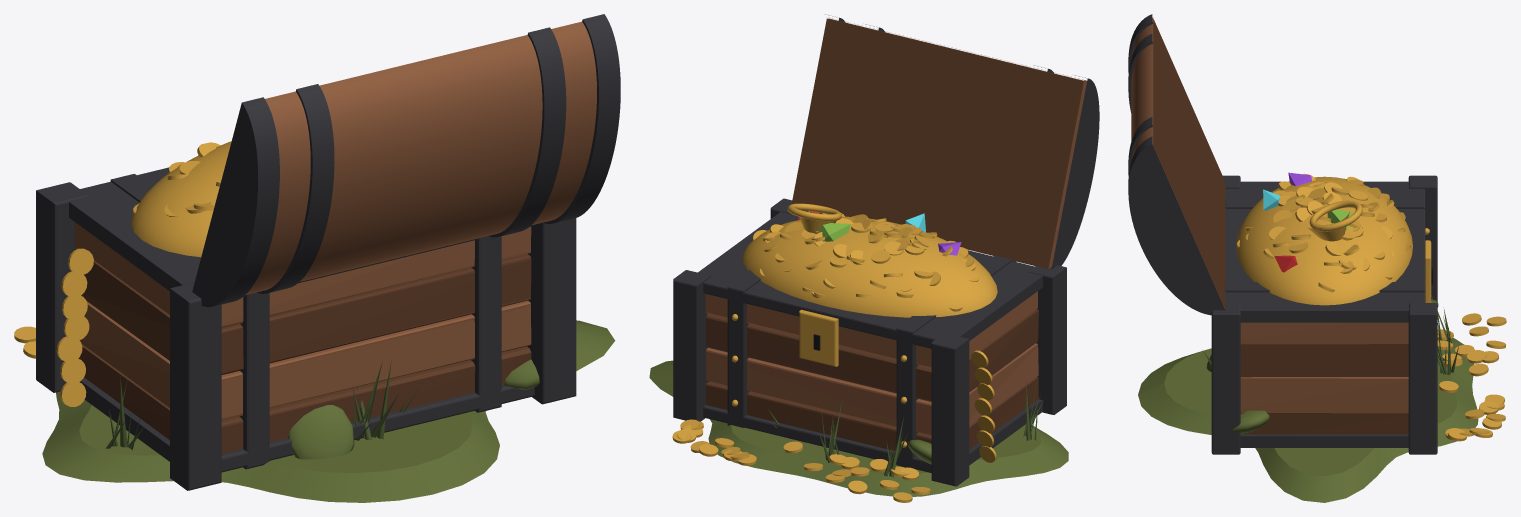
The model's file is BAYOU_CHEST.glb.
The picture shows the model from 3 angles, left to right: view 1: azimuth 30°, elevation 25°; view 2: azimuth 150°, elevation 25°; view 3: azimuth 270°, elevation 25°; orthographic projection. The views are drawn at different scales.
Visible parts, largest first — view 1: Lid_Shell, Iron_Bands, Lid_Band (×4), WoodB, WoodA, Ground, Gold_Mound, Gold_Coins, Moss, Grass; view 2: Lid_Inner, Iron_Bands, Gold_Mound, WoodB, WoodA, Gold_Coins, Ground, Lid_Band, Lock, Grass, Lid_Shell, Goblet_Rim; view 3: Iron_Bands, Ground, Gold_Mound, WoodB, Lid_Inner, WoodA, Lid_Band (×2), Gold_Coins, Lid_Shell, Goblet_Rim, Moss, Grass (+1 smaller).
Boxes of the visible parts, left/top/right/bottom form: Lid_Shell: left=245, top=21, right=596, bottom=295; Iron_Bands: left=36, top=167, right=576, bottom=490; Lid_Band (×4): left=192, top=14, right=620, bottom=307; WoodB: left=75, top=248, right=531, bottom=453; WoodA: left=74, top=222, right=531, bottom=420; Ground: left=42, top=320, right=615, bottom=502; Gold_Mound: left=131, top=141, right=231, bottom=257; Gold_Coins: left=14, top=142, right=220, bottom=406; Moss: left=288, top=359, right=539, bottom=459; Grass: left=105, top=361, right=418, bottom=449; Lid_Inner: left=791, top=18, right=1083, bottom=268; Iron_Bands: left=673, top=198, right=1066, bottom=486; Gold_Mound: left=742, top=216, right=997, bottom=317; WoodB: left=706, top=309, right=1038, bottom=456; WoodA: left=705, top=291, right=1038, bottom=435; Gold_Coins: left=672, top=212, right=996, bottom=502; Ground: left=649, top=360, right=1068, bottom=496; Lid_Band: left=1051, top=75, right=1099, bottom=268; Lock: left=799, top=309, right=838, bottom=366; Grass: left=768, top=382, right=1043, bottom=477; Lid_Shell: left=828, top=17, right=1086, bottom=268; Goblet_Rim: left=787, top=203, right=841, bottom=221; Iron_Bands: left=1211, top=175, right=1437, bottom=454; Ground: left=1138, top=338, right=1478, bottom=502; Gold_Mound: left=1236, top=176, right=1412, bottom=305; WoodB: left=1240, top=342, right=1408, bottom=434; Lid_Inner: left=1153, top=19, right=1225, bottom=308; WoodA: left=1240, top=322, right=1408, bottom=410; Lid_Band (×2): left=1128, top=34, right=1224, bottom=315; Gold_Coins: left=1237, top=173, right=1506, bottom=441; Lid_Shell: left=1131, top=17, right=1225, bottom=308; Goblet_Rim: left=1309, top=200, right=1362, bottom=231; Moss: left=1206, top=299, right=1438, bottom=434; Grass: left=1203, top=295, right=1458, bottom=374.
Bounding box in the file's own units: 8.24 × 6.02 × 6.53.
